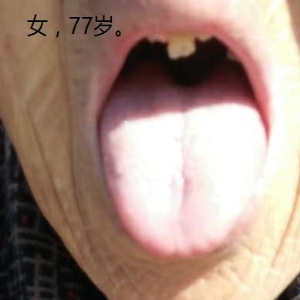st: (96, 103, 263, 258)
